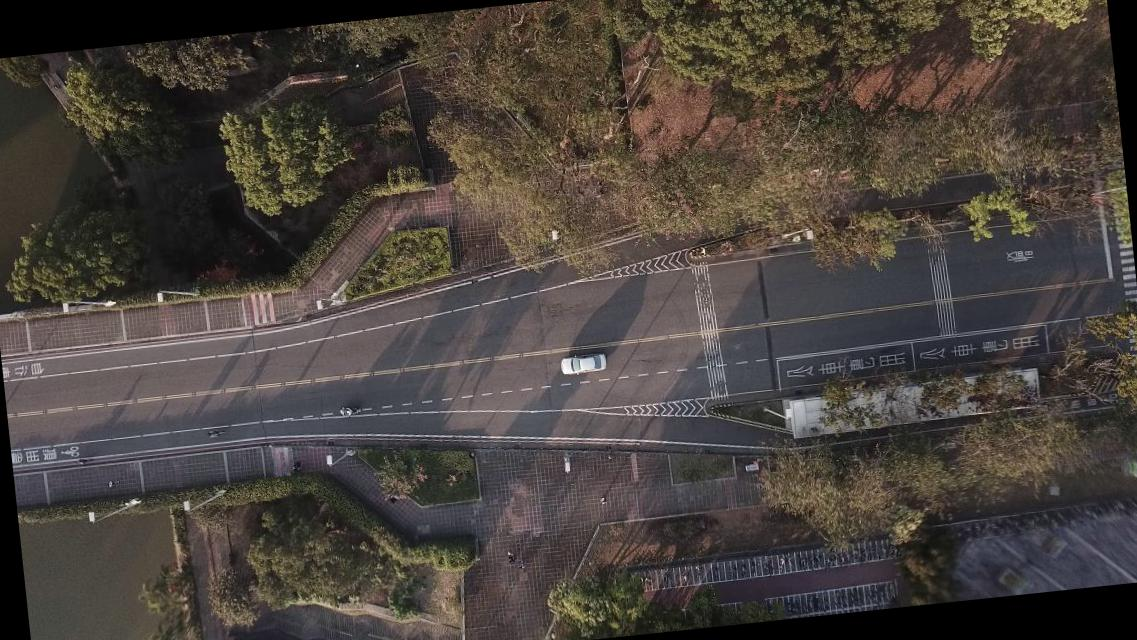vehicle: (559, 350, 607, 376)
